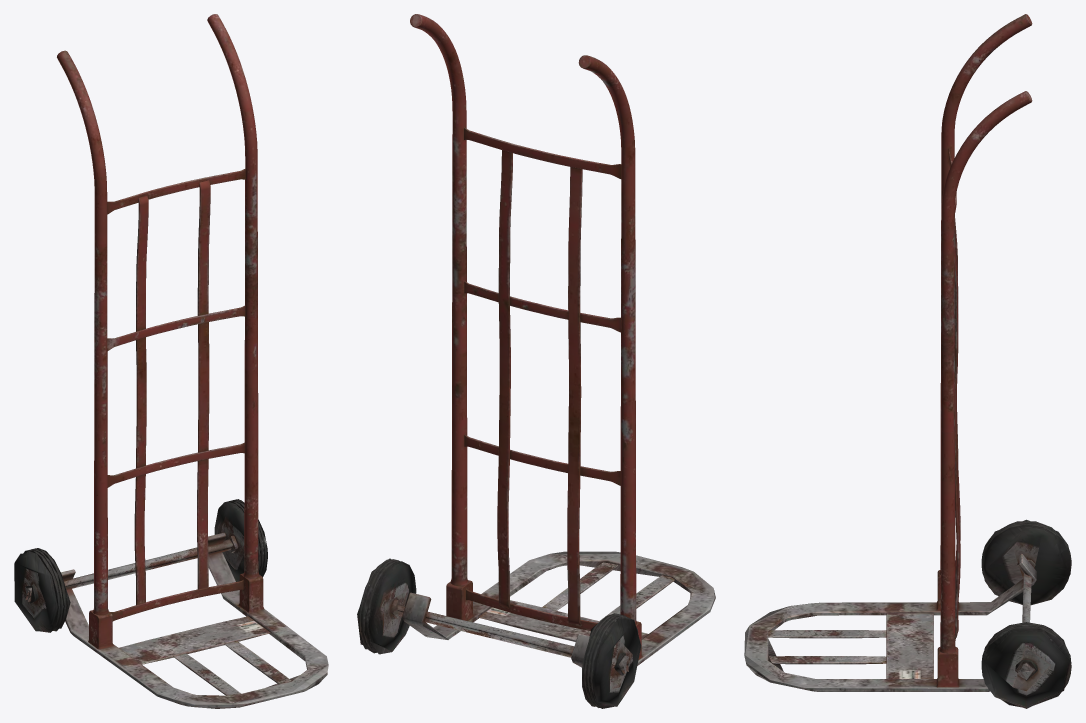
File: hand_truck.glb
3 views of the same model, side by side, from view 1: azimuth 30°, elevation 25°; view 2: azimuth 150°, elevation 25°; view 3: azimuth 270°, elevation 25° (orthographic). The views are drawn at different scales.
Parts seen in each view (by area): view 1: hand_truck; view 2: hand_truck; view 3: hand_truck.
Boxes of the visible parts, x1,y1,x2,y2 form: hand_truck: [14, 14, 328, 708]; hand_truck: [357, 14, 715, 708]; hand_truck: [744, 14, 1071, 708].
Bounding box in the file's own units: 0.5933 × 1.4 × 0.6921.
1 material, 1 textured.
